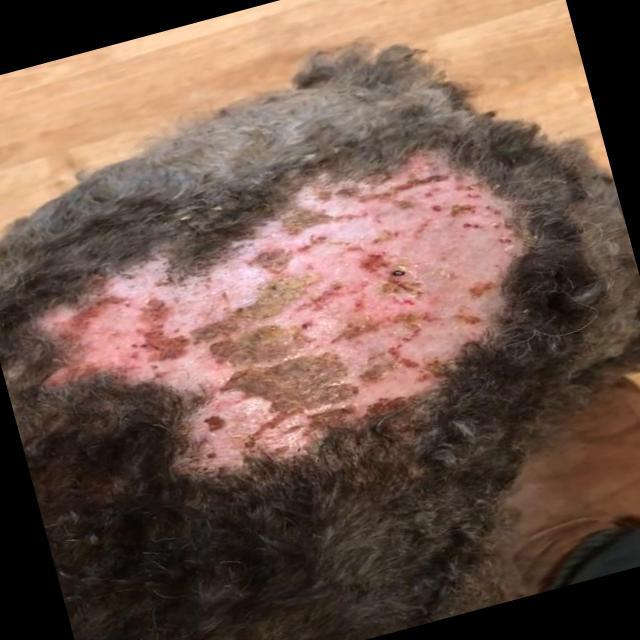allergic dermatitis: (23, 152, 527, 483)
